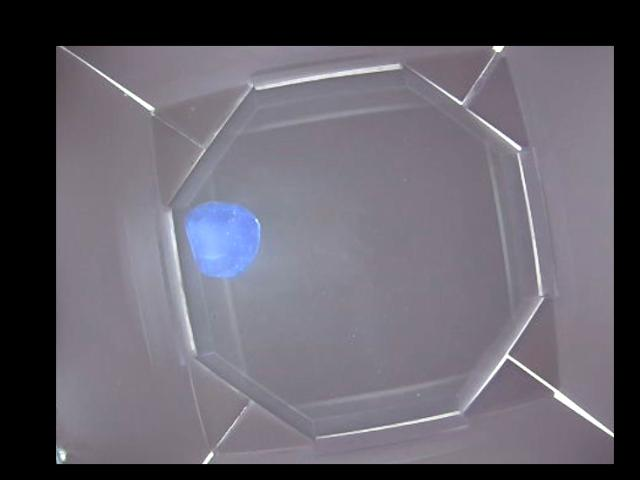Potato: (190, 202, 261, 275)
